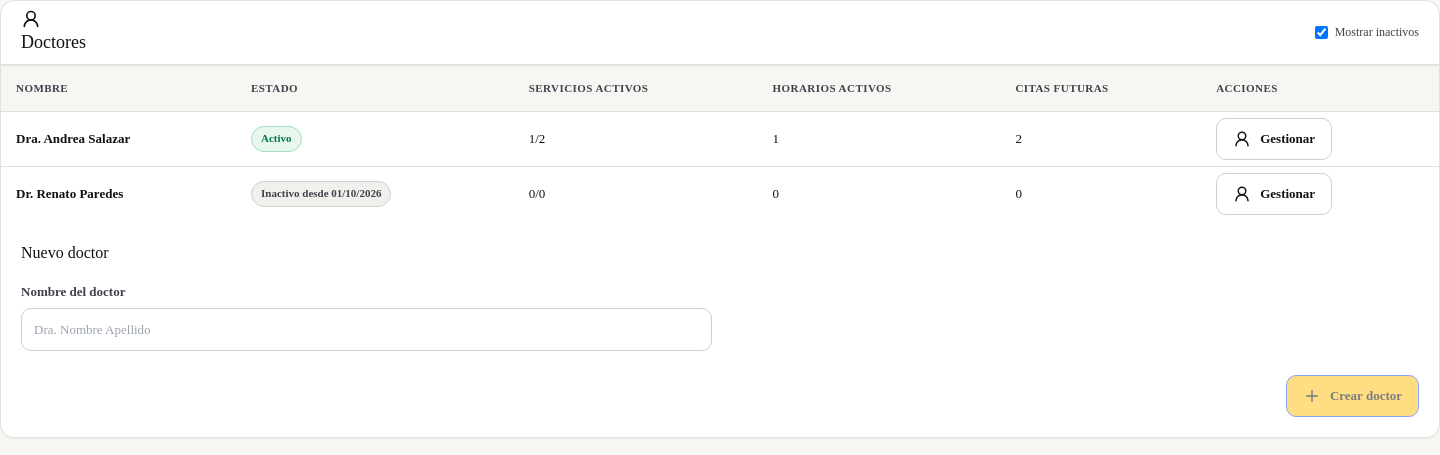
Scenario: PractitionersPanel · management › hides the inactive doctors on demand, and shows them by default
The width and height of the screenshot is (1440, 455).
Step 1. Click the checkbox labelled "Mostrar inactivos" → [1321, 32], box [1315,26,1328,39]
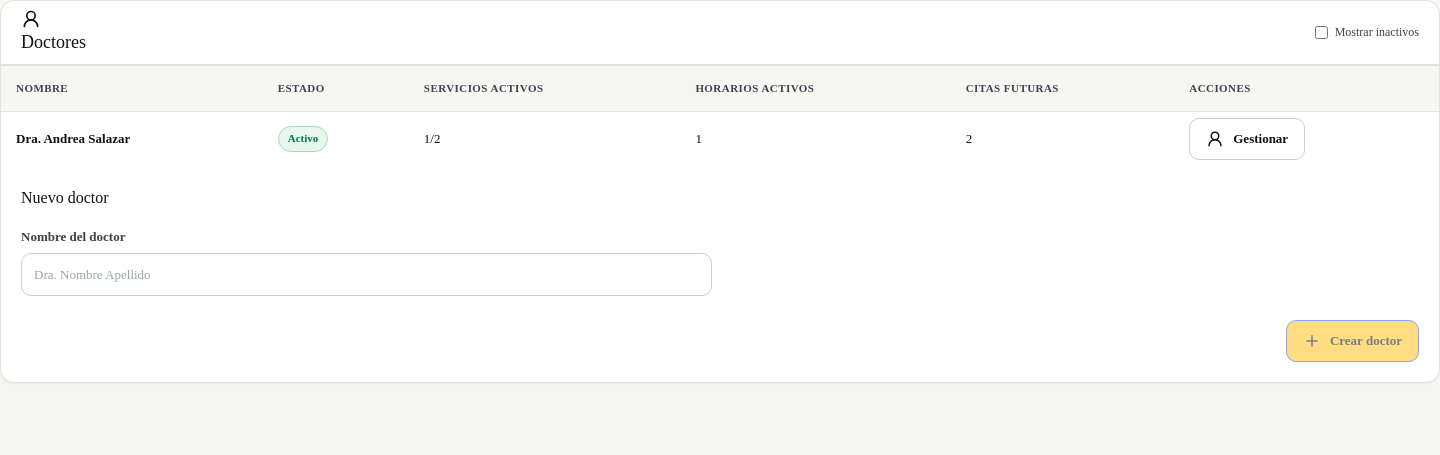
Expected: the text "Dra. Andrea Salazar" is shown, [16,131,130,146]
Result: the text "Dr. Renato Paredes" is gone
Step 2. Click the checkbox labelled "Mostrar inactivos" → [1321, 32], box [1315,26,1328,39]
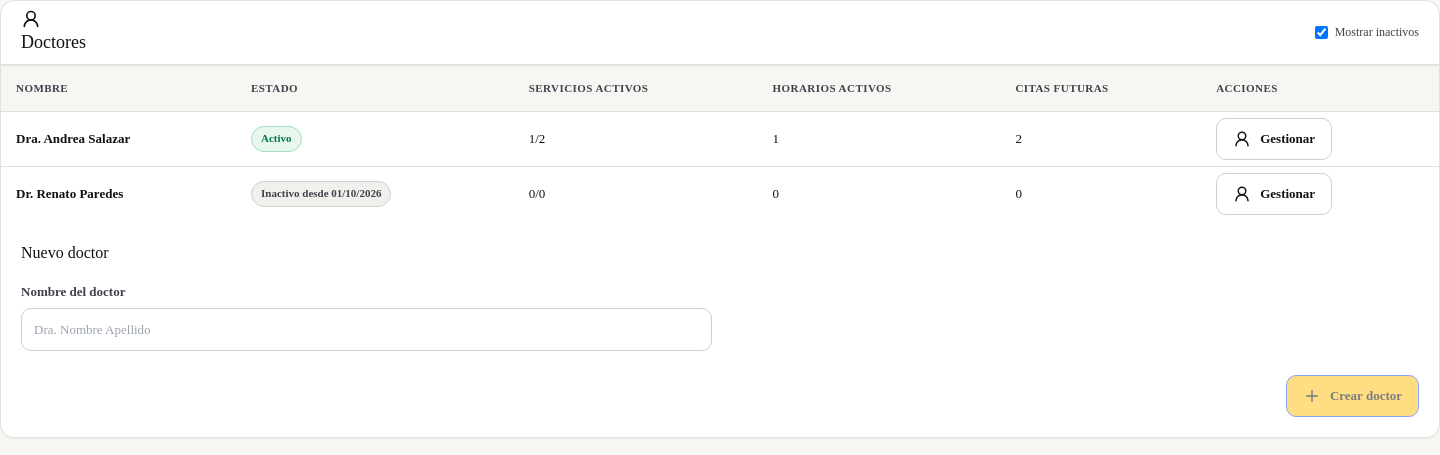
Result: the text "Dr. Renato Paredes" is shown at [16,186,123,201]
